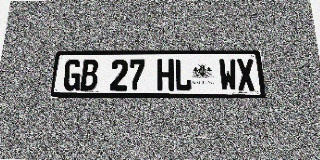2: (110, 59, 128, 91)
7: (128, 59, 145, 91)
B: (80, 59, 99, 91)
G: (63, 59, 82, 91)
H: (157, 59, 174, 91)
L: (174, 59, 192, 91)
W: (218, 59, 238, 91)
X: (236, 59, 256, 91)
